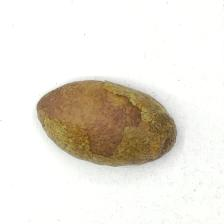NG: (97, 75, 175, 168), (36, 98, 95, 168)
